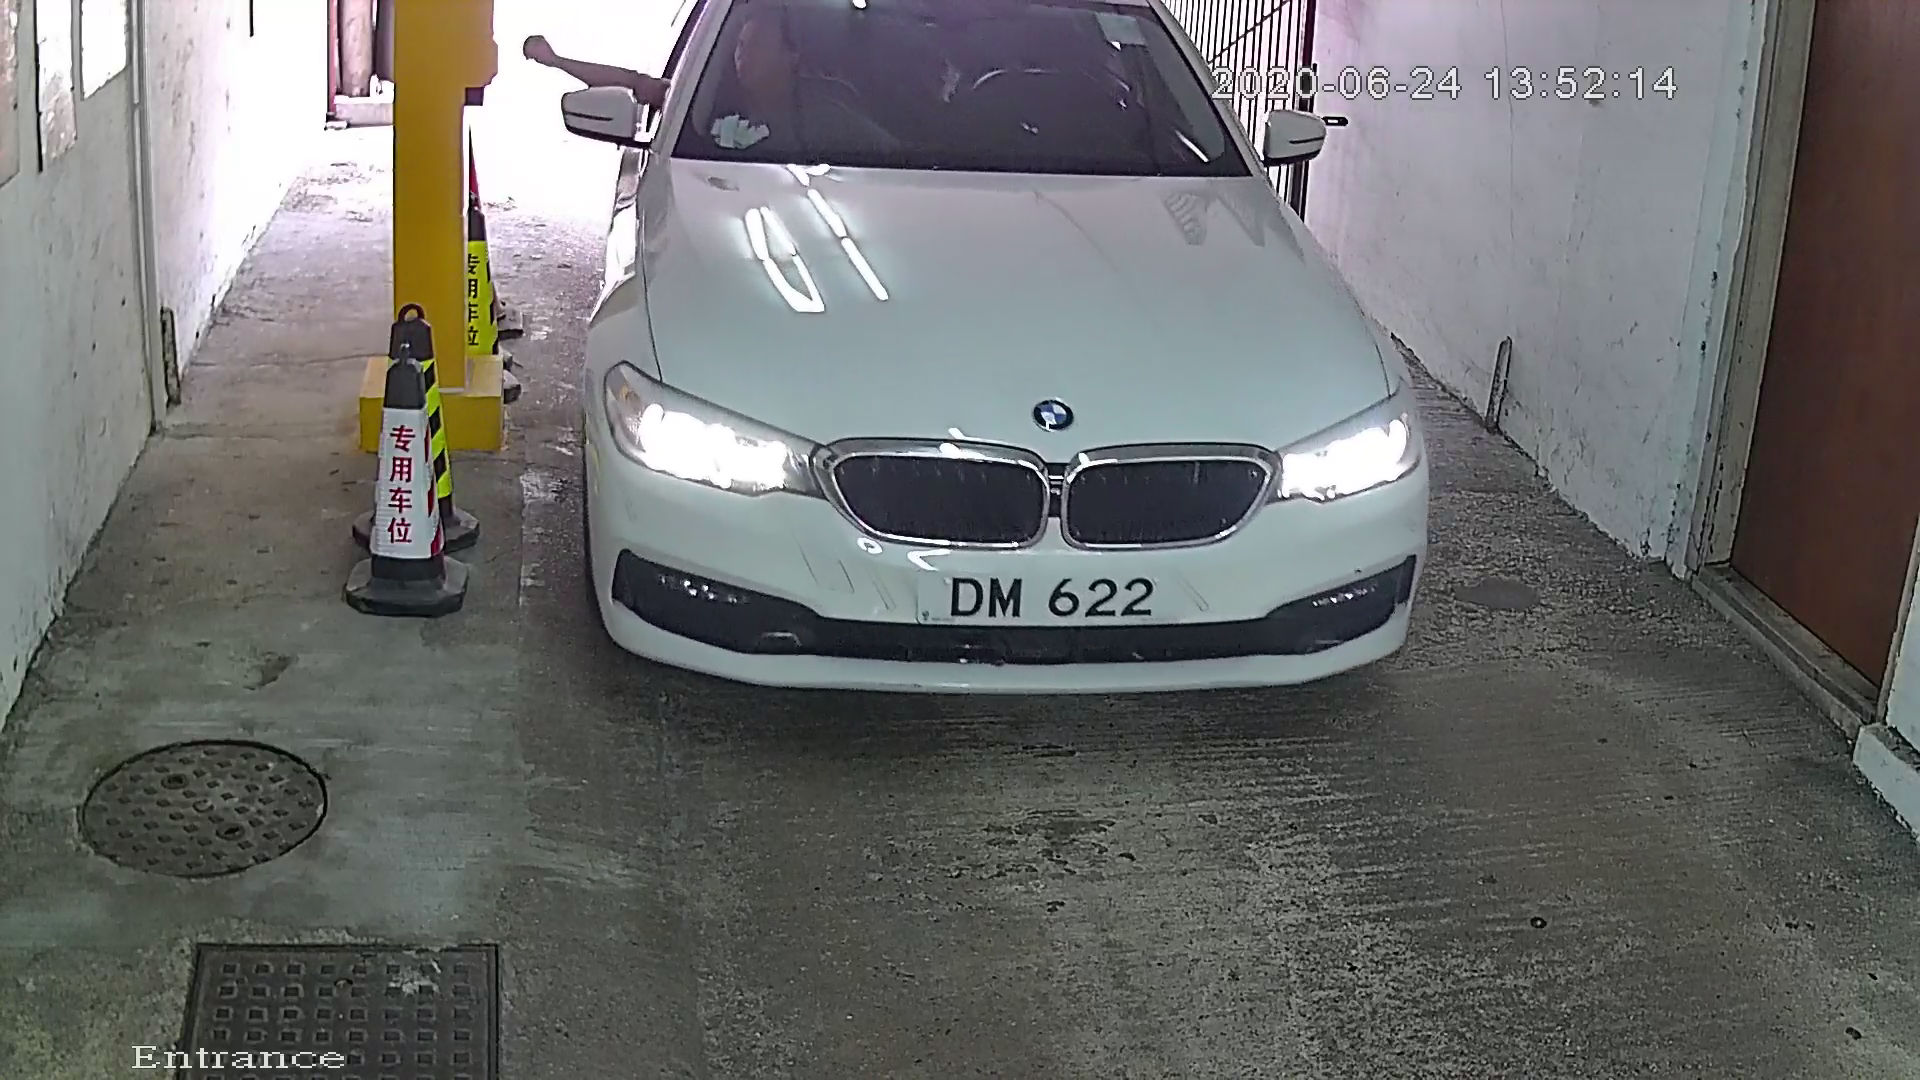Car: (540, 1, 1464, 762)
License Plate: (899, 558, 1209, 638)
